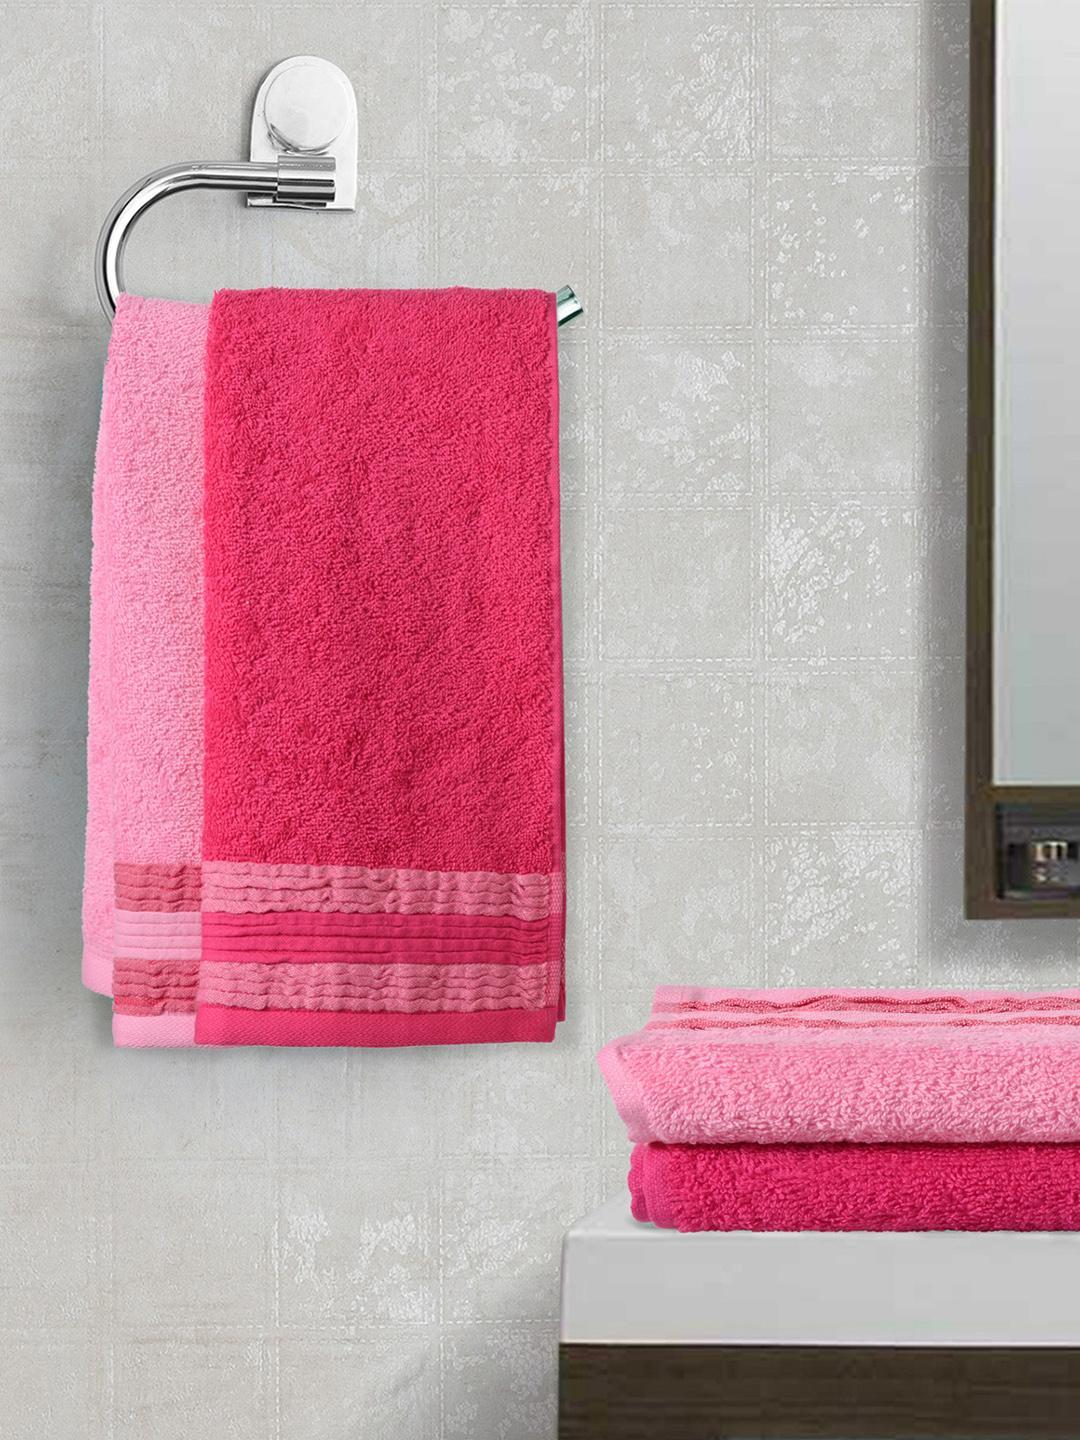towel: (103, 270, 583, 1053)
